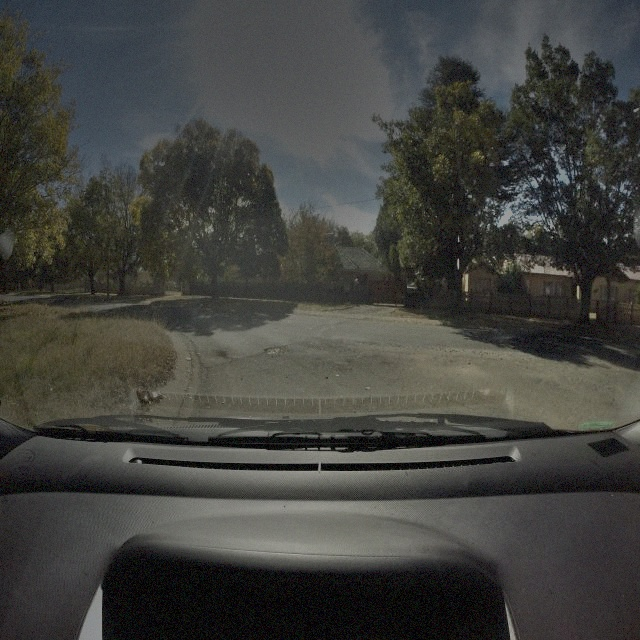pothole: (264, 342, 288, 356)
